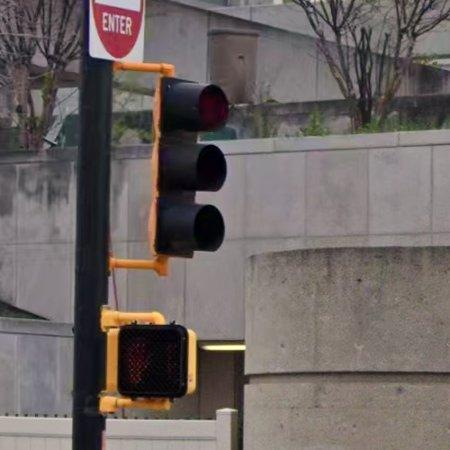traffic lights: (155, 77, 229, 257), (101, 309, 196, 400)
